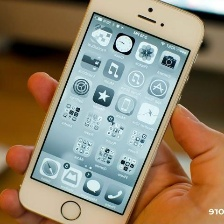phone: (14, 0, 208, 224)
